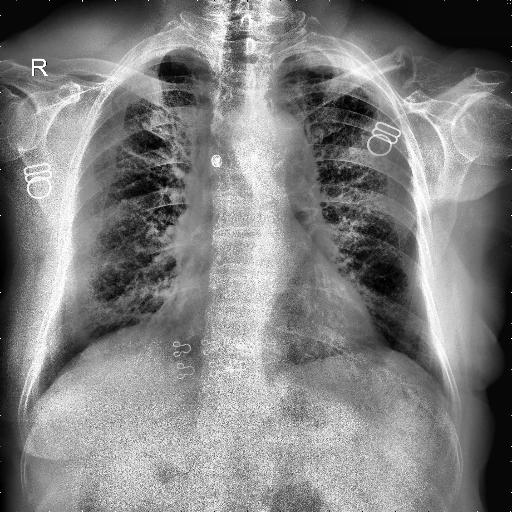0- Aortic enlargement: (240, 109, 318, 202), (226, 104, 315, 184), (238, 109, 316, 192)
